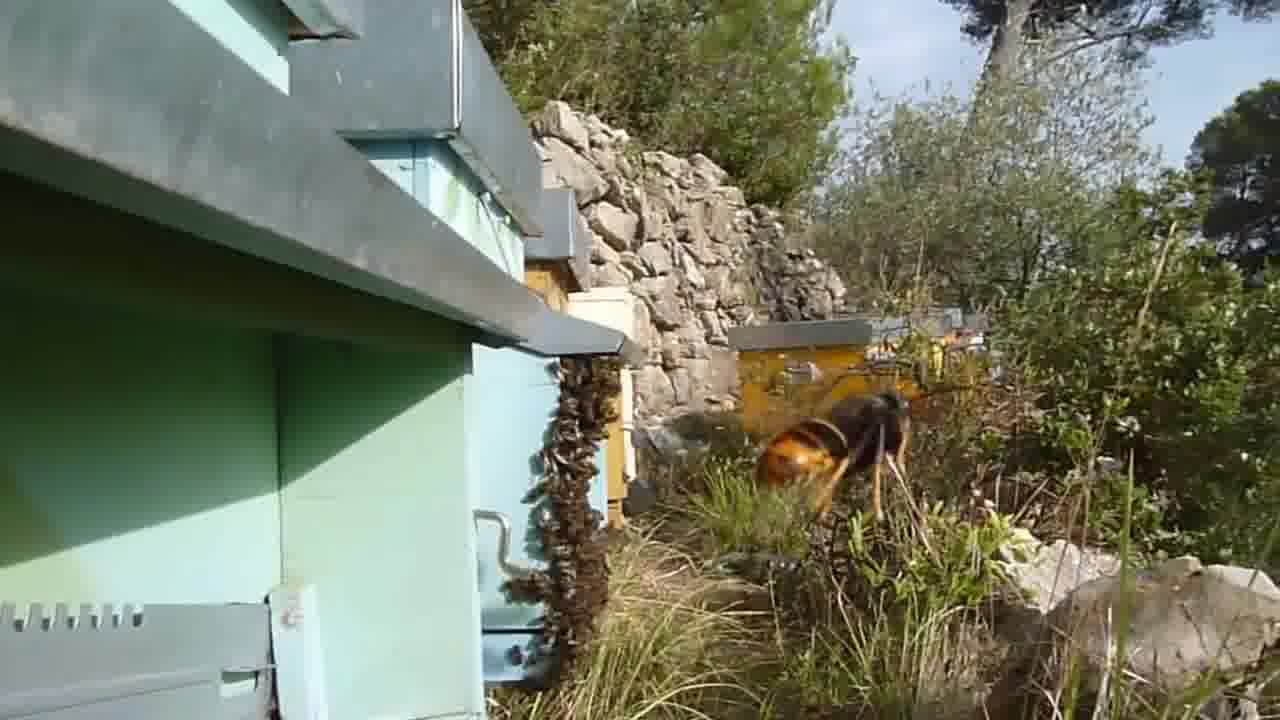bee: (534, 516, 623, 597), (550, 352, 614, 432), (535, 439, 601, 515)
hornet: (750, 355, 937, 516)
